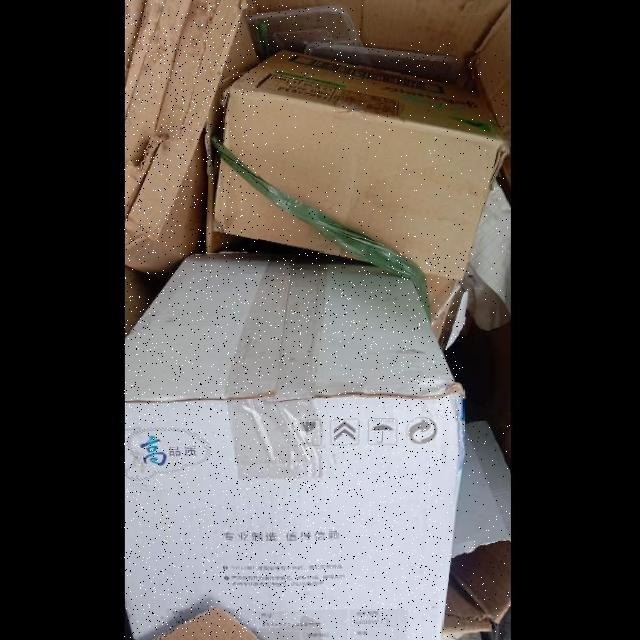paper: (125, 252, 464, 640), (213, 52, 508, 317), (125, 0, 258, 274), (443, 421, 510, 636), (159, 608, 257, 639)
plastic: (245, 6, 363, 63), (303, 43, 457, 84)
